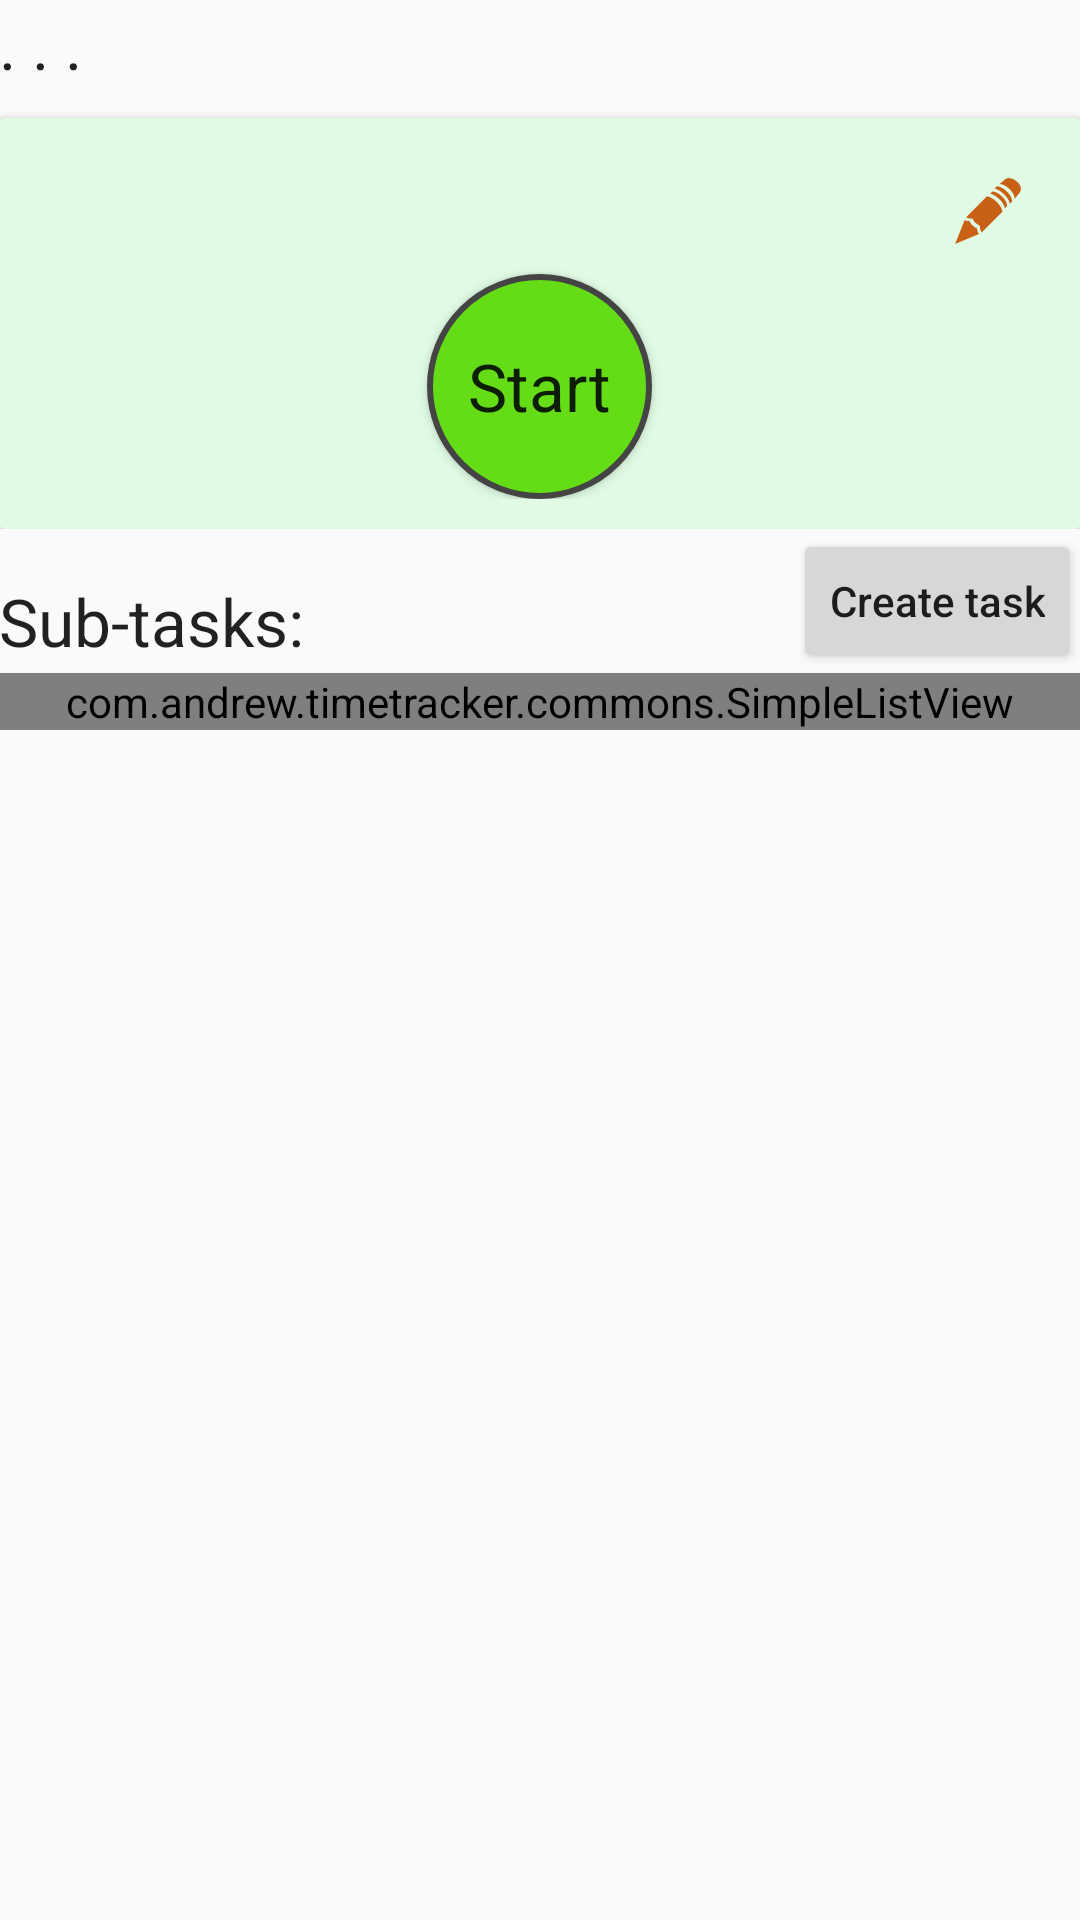

Where to tap for icons on this 1080w x 1920h app screen, as point (x, y):
Edit: point (988, 211)
